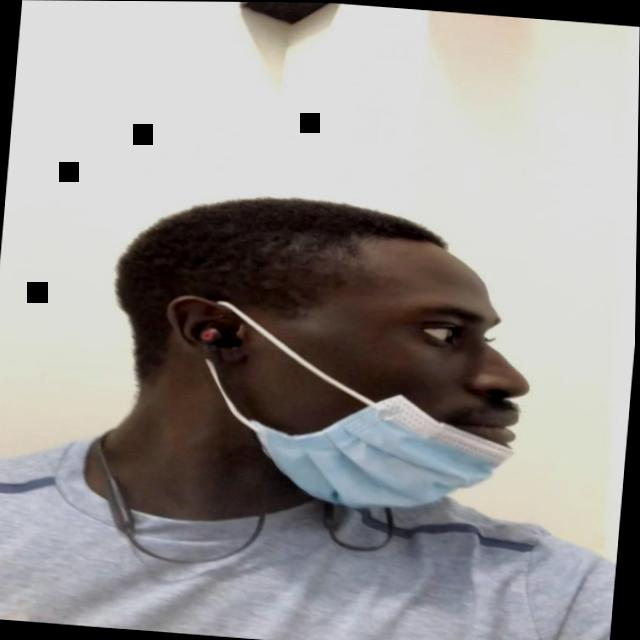NO-Mask: (203, 233, 542, 521)
